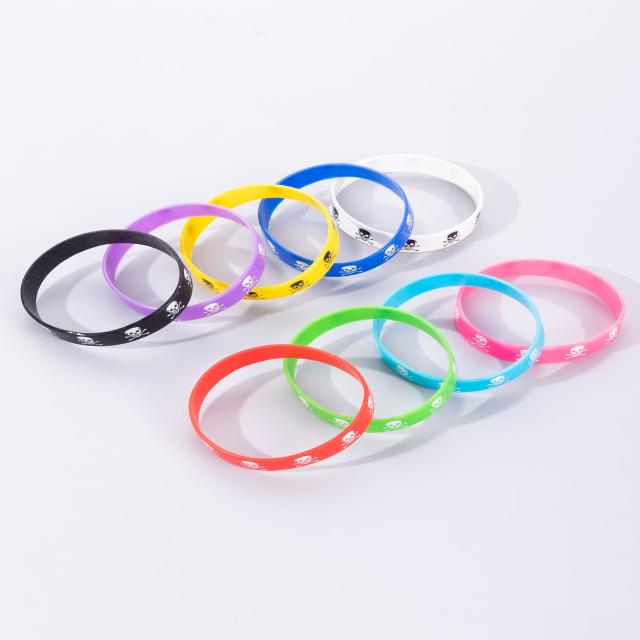bracelet: (10, 101, 640, 548)
